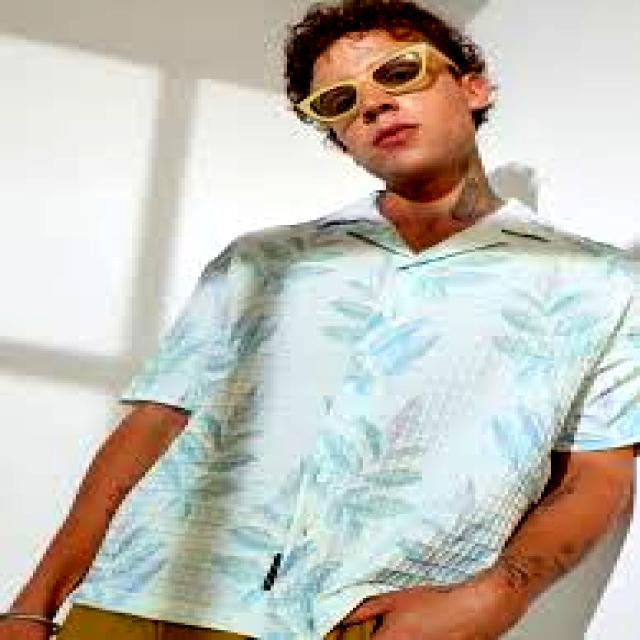face: (330, 62, 491, 185)
top-wear: (73, 193, 639, 639)
